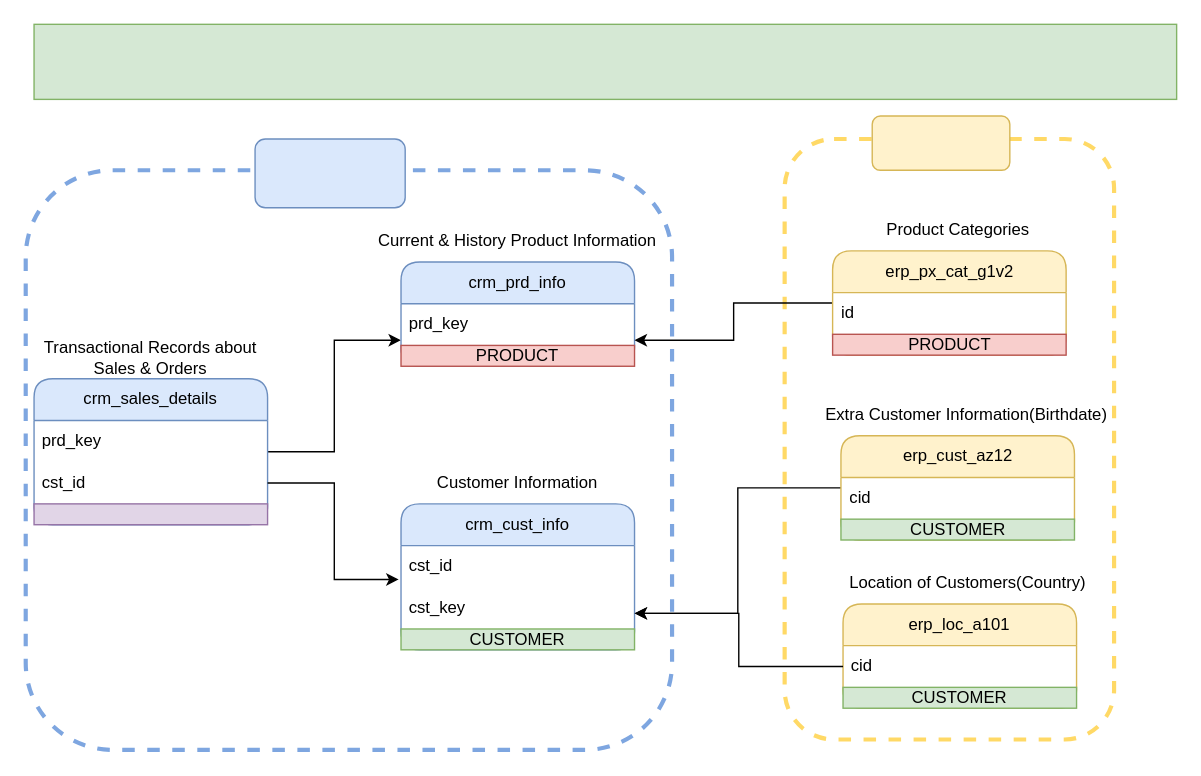
The diagram is 1201 pixels wide and 776 high, and some of its shapes have lost their labels. Each missing label, with the centre of its shape:
"CRM" belongs at [329,173].
"ERP" belongs at [940,142].
"Intergration Model (how to tables are related)" belongs at [605,61].
"SALES" belongs at [150,513].
